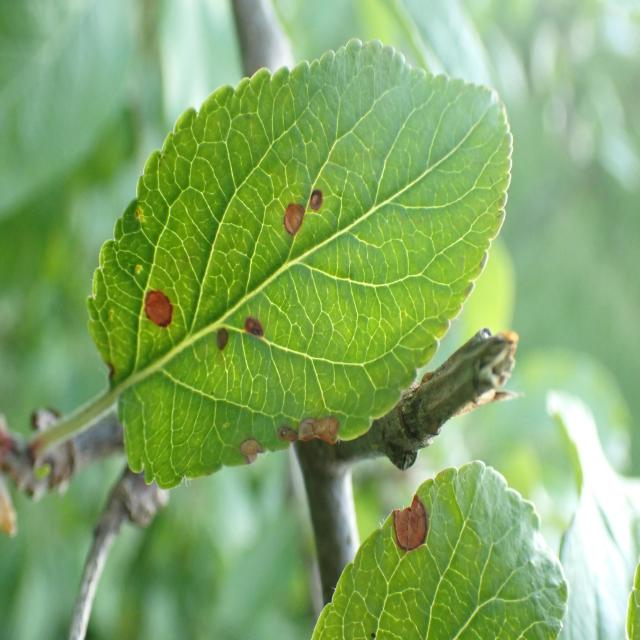Black Rot: (276, 403, 349, 472), (382, 485, 433, 572), (137, 263, 175, 348), (226, 416, 266, 492), (226, 302, 266, 347), (303, 179, 340, 219), (280, 189, 306, 244), (206, 318, 234, 366)
